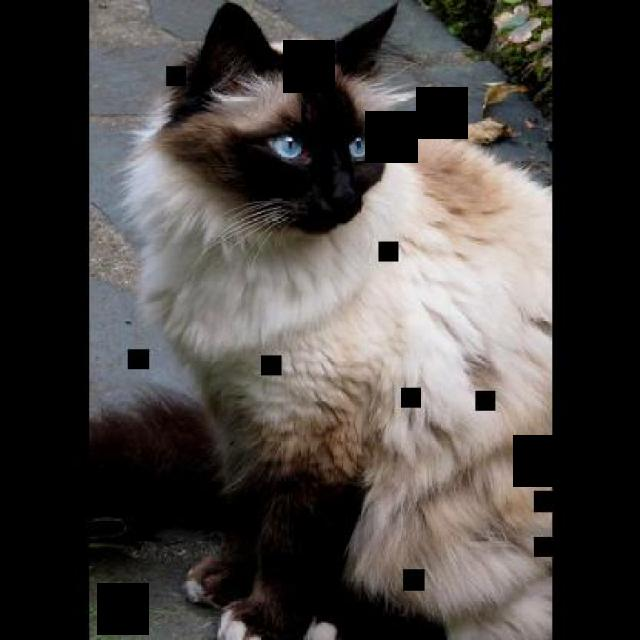unauthorized: (107, 0, 552, 638)
